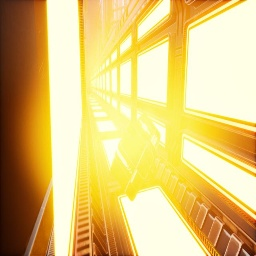FireAlarm ,: (102, 33, 102, 38)
FirstAidBox ,: (111, 113, 161, 202)
SafetySwitchPanel ,: (114, 0, 118, 27)
